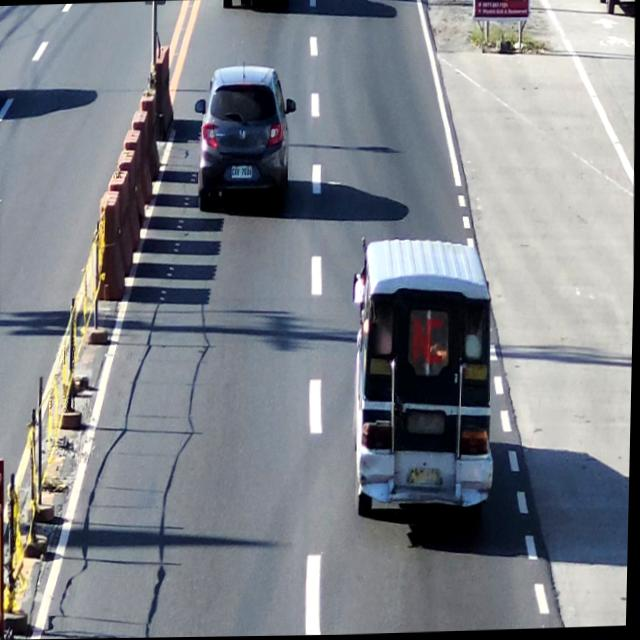Car: (194, 67, 292, 210)
Jeep: (344, 232, 503, 523)
License-Plate: (410, 467, 445, 493), (229, 160, 255, 184)
